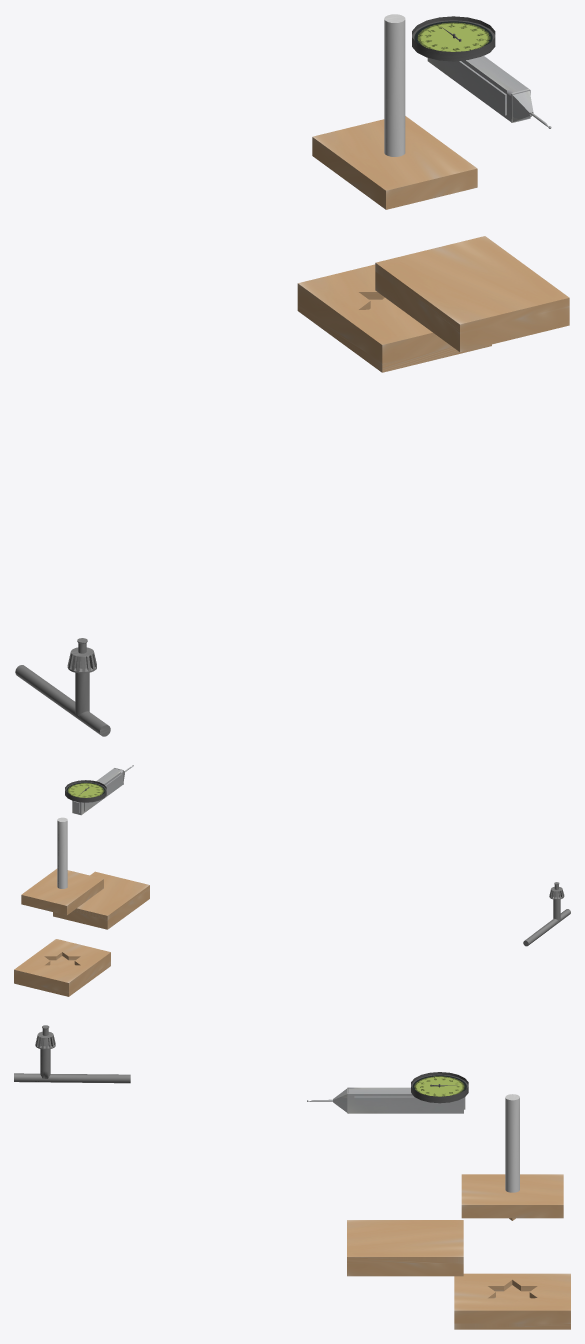
Rendered from 电火花小部件.FBX.
The picture shows the model from 3 angles, top to bottom: view 1: azimuth 30°, elevation 25°; view 2: azimuth 150°, elevation 25°; view 3: azimuth 270°, elevation 25°; orthographic projection. The views are drawn at different scales.
Parts seen in each view (by area): view 1: Box003, Cylinder003, Gengon002, Sphere001, Cylinder011, Cylinder002, Cylinder001; view 2: Gengon002, Cylinder003, Box003, Sphere001, Cylinder011, Cylinder002, Cylinder001; view 3: Box003, Gengon002, Cylinder003, Sphere001, Cylinder011, Cylinder002, Cylinder001.
Part boxes in pixels (x1,y1,x2,y2): Box003: (375, 236, 569, 351); Cylinder003: (312, 14, 477, 209); Gengon002: (297, 264, 491, 372); Sphere001: (427, 55, 551, 128); Cylinder011: (15, 638, 110, 736); Cylinder002: (414, 21, 492, 51); Cylinder001: (412, 16, 495, 61); Gengon002: (14, 939, 110, 996); Cylinder003: (21, 817, 103, 915); Box003: (53, 871, 149, 929); Sphere001: (72, 765, 133, 815); Cylinder011: (523, 882, 570, 946); Cylinder002: (66, 782, 105, 797); Cylinder001: (65, 780, 106, 802); Box003: (347, 1220, 463, 1276); Gengon002: (454, 1273, 570, 1329); Cylinder003: (461, 1094, 563, 1220); Sphere001: (307, 1087, 465, 1113); Cylinder011: (14, 1025, 130, 1083); Cylinder002: (412, 1075, 466, 1096); Cylinder001: (411, 1072, 468, 1103).
Bounding box in the file's own units: 39.27 × 17.32 × 38.19.
10 materials, 10 textured.
